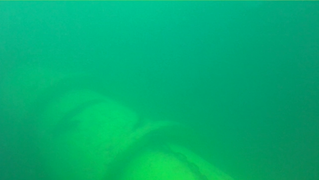1: (48, 96, 107, 139)
pipe: (1, 40, 236, 179)
